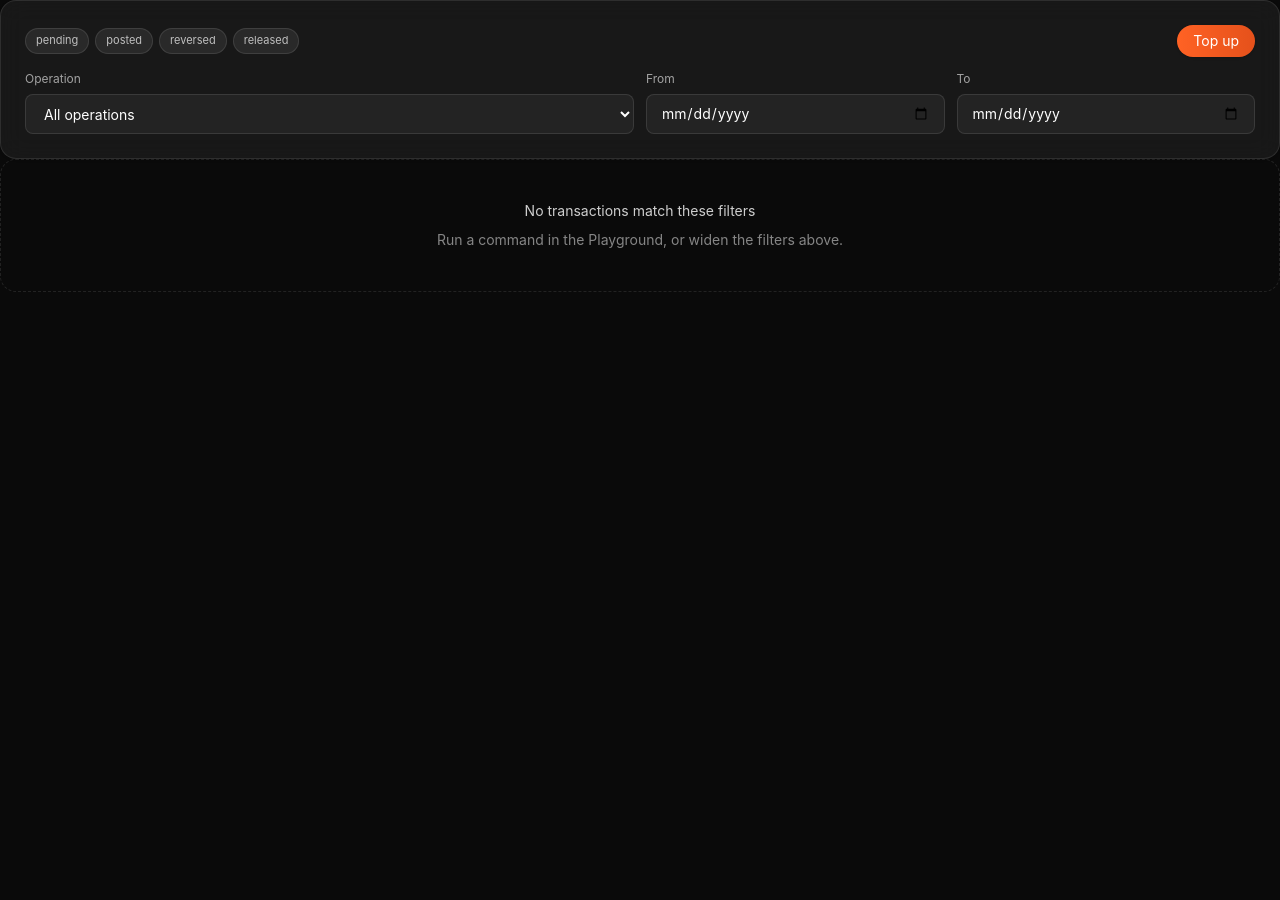
Test: LedgerPageContent › closes the top-up dialog on cancel
This screenshot has width=1280, height=900.
Expected: the text "No transactions match these filters" is shown, [525,202,755,219]
Click the button "Top up" at (1216, 41), box [1177,25,1255,57]
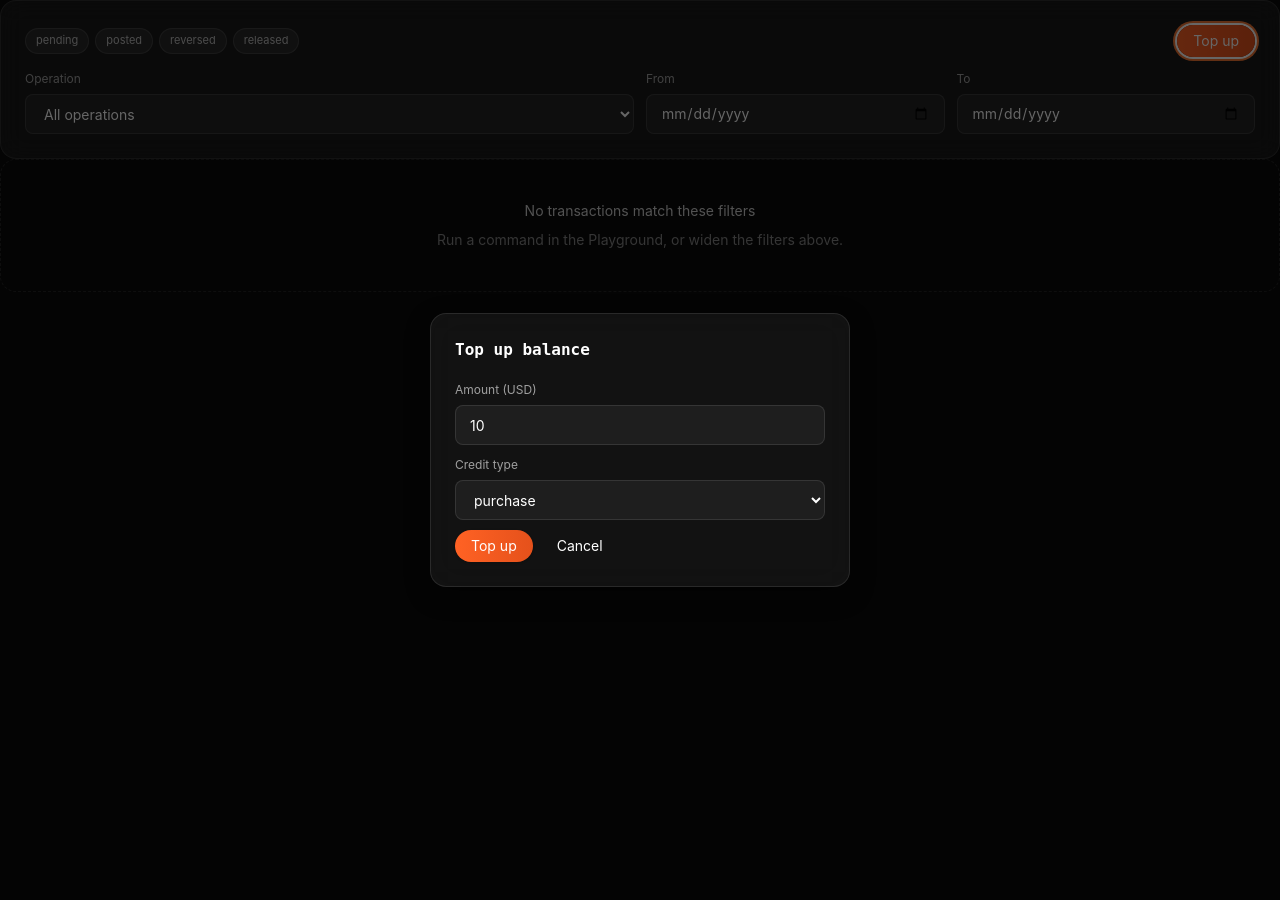
Click the button "Cancel" at (580, 546), box [541,530,619,562]
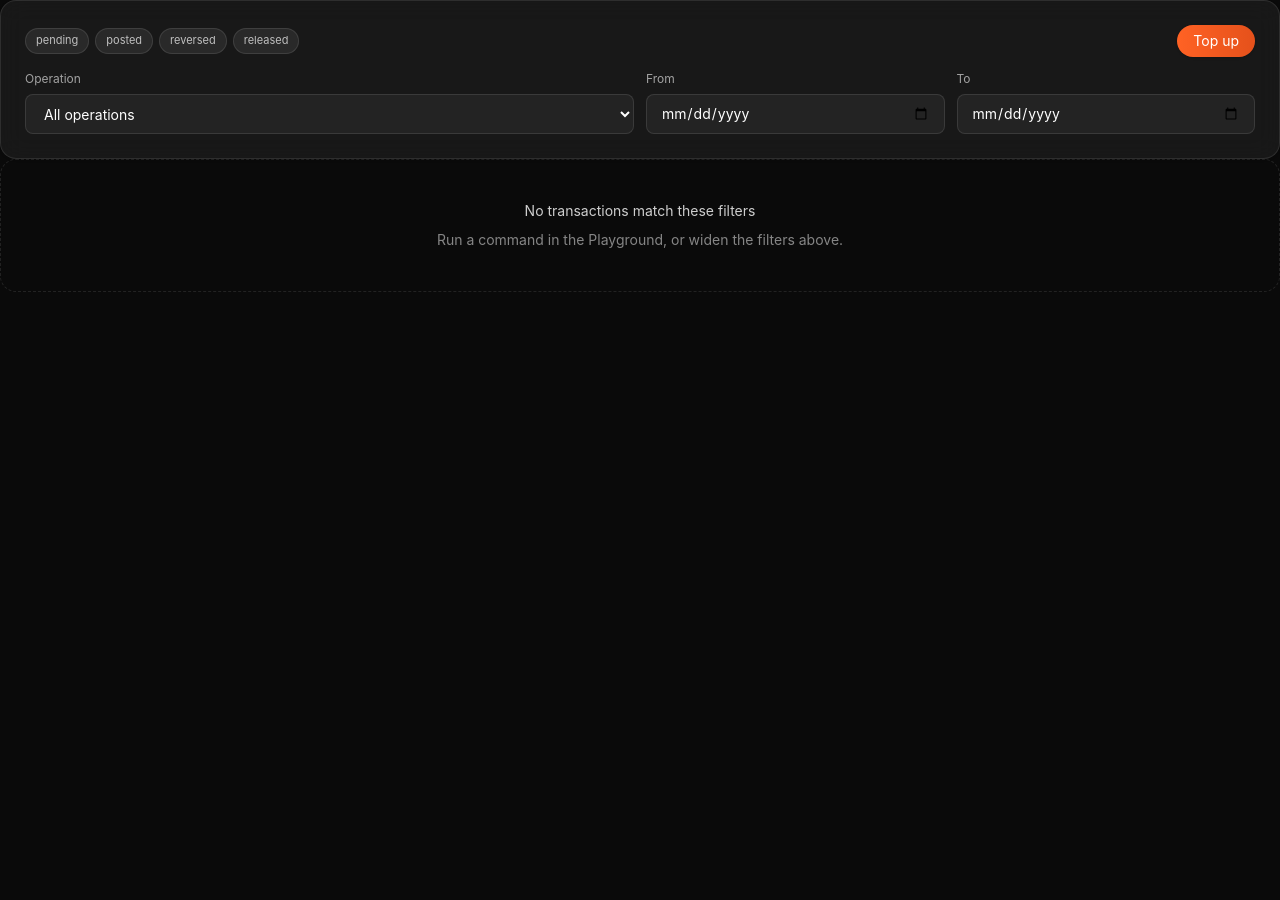
Now the text "Top up balance" is gone
